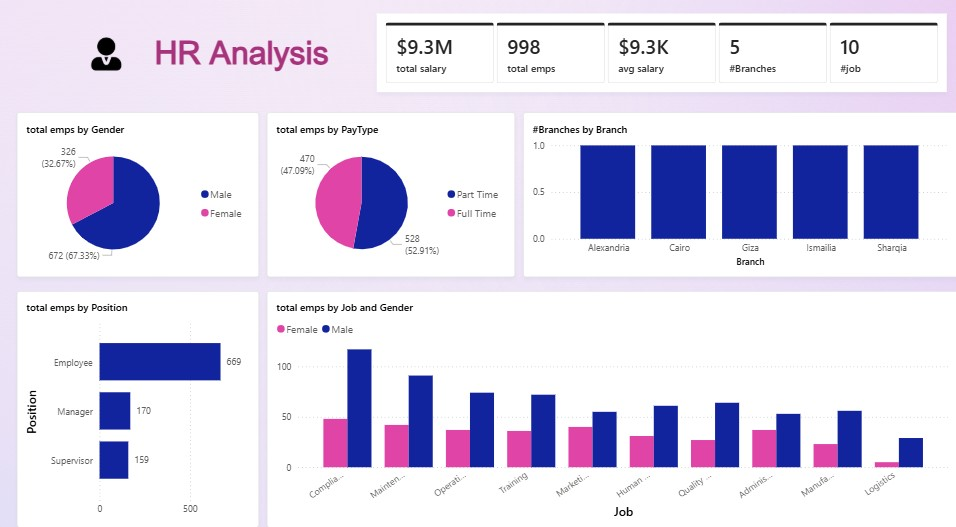

The page's visual inventory and layout, read from the dashboard file:
{"tool":"powerbi","page":{"name":"Page 1","canvas":[1280,720],"ordinal":0},"visuals":[{"type":"cardVisual","fields":{"Data":["HR_DB.total salary","HR_DB.total emps","HR_DB.avg salary","HR_DB.#Branches","HR_DB.#job"]},"box":[505,23.2,760.6,105.2],"z":0},{"type":"pieChart","fields":{"Category":["HR_DB.Gender"],"Y":["HR_DB.total emps"]},"box":[24.5,155.3,322.8,220.1],"z":1000},{"type":"pieChart","fields":{"Y":["HR_DB.total emps"],"Category":["HR_DB.PayType"]},"box":[358.3,155.3,331.4,220.1],"z":2000},{"type":"clusteredColumnChart","fields":{"Y":["HR_DB.total emps"],"Category":["HR_DB.Job"],"Series":["HR_DB.Gender"]},"box":[358.3,392.5,922,316.7],"z":3000},{"type":"clusteredColumnChart","fields":{"Category":["HR_DB.Branch"],"Y":["HR_DB.#Branches"]},"box":[699.5,155.3,580.8,220.1],"z":4000},{"type":"clusteredBarChart","fields":{"Y":["HR_DB.total emps"],"Category":["HR_DB.Position"]},"box":[24.5,392.5,322.8,316.7],"z":5000},{"type":"textbox","box":[162.6,40.4,322.8,110.1],"z":6000},{"type":"image","box":[69.7,52.6,149.2,47.7],"z":7000}]}

Visuals, with their boxes in screenshot pixels (x1, y1, x2, y2), scaled from the page's 1280x720 canvas onto the 956x527 screenshot:
cardVisual - HR_DB.total salary x HR_DB.total emps: 377,17,945,94
pieChart - HR_DB.Gender x HR_DB.total emps: 18,114,259,275
pieChart - HR_DB.total emps x HR_DB.PayType: 268,114,515,275
clusteredColumnChart - HR_DB.total emps x HR_DB.Job: 268,287,955,519
clusteredColumnChart - HR_DB.Branch x HR_DB.#Branches: 522,114,955,275
clusteredBarChart - HR_DB.total emps x HR_DB.Position: 18,287,259,519
textbox: 121,30,363,110
image: 52,39,163,73
